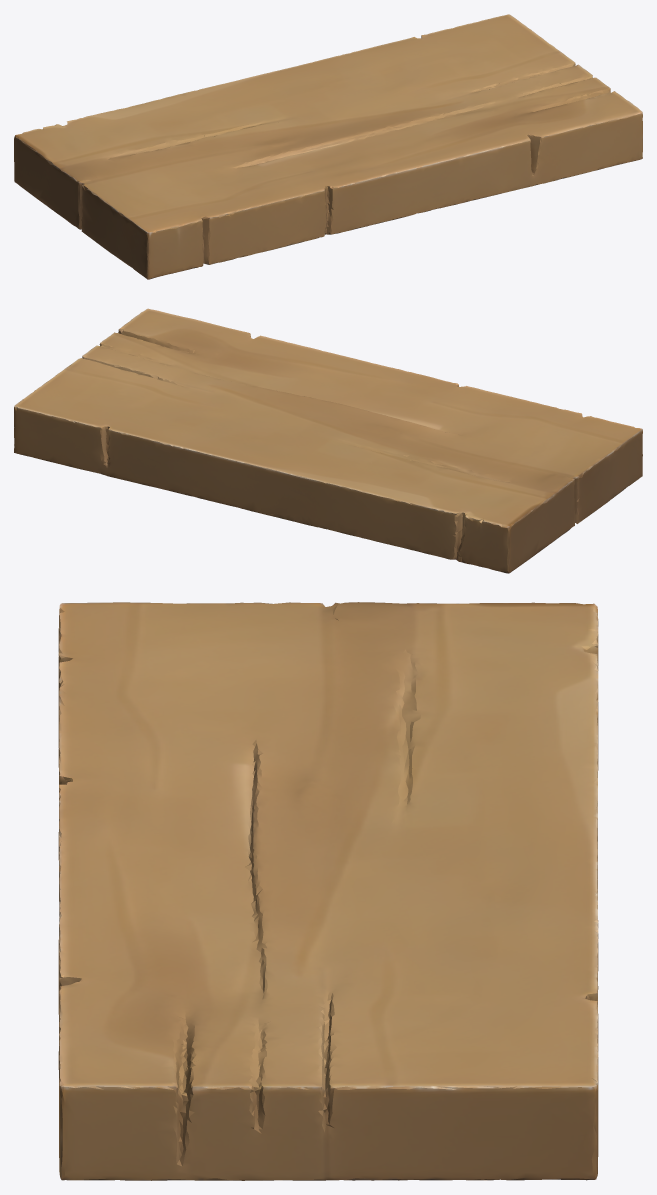
File: plank.glb
3 renders of one model, top to bottom at view 1: azimuth 30°, elevation 25°; view 2: azimuth 150°, elevation 25°; view 3: azimuth 270°, elevation 25°, orthographic. The views are drawn at different scales.
Visible parts, largest first — view 1: plank; view 2: plank; view 3: plank.
Part boxes in pixels (x1=…): plank: x1=14, y1=14, x2=642, y2=279; plank: x1=14, y1=308, x2=642, y2=573; plank: x1=58, y1=602, x2=598, y2=1180.
Size of the model in its own units: 1 by 0.0931 by 0.4707.
1 material, 1 textured.
